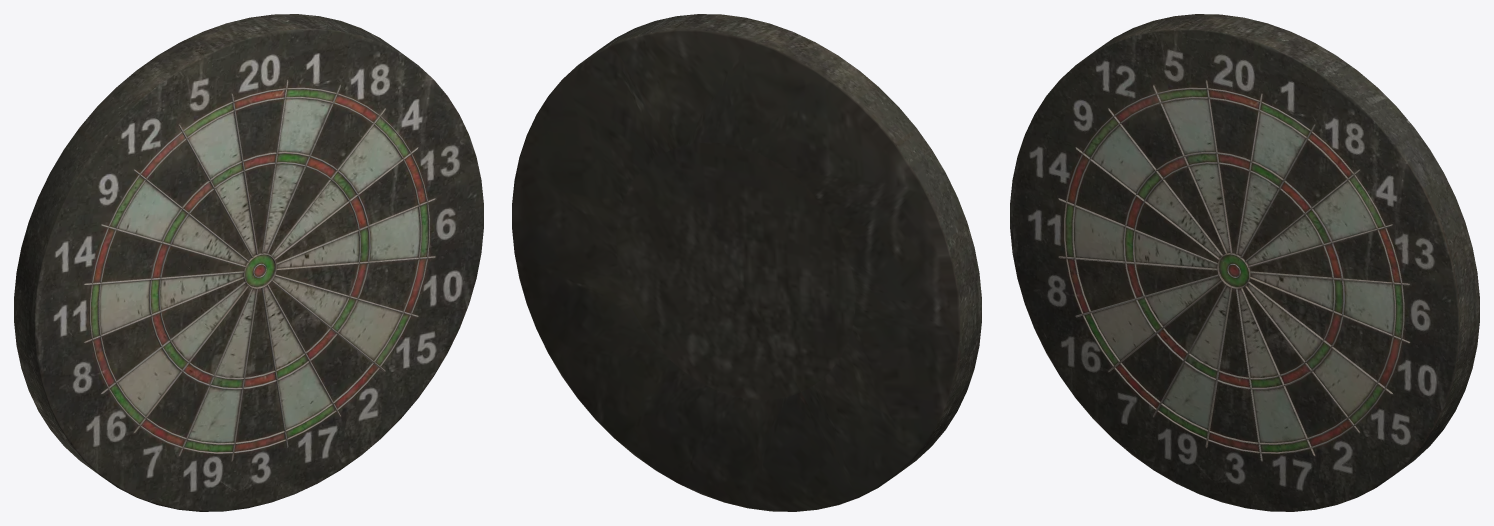
The model's file is dartboard.glb.
3 views of the same model, side by side, from view 1: azimuth 30°, elevation 25°; view 2: azimuth 150°, elevation 25°; view 3: azimuth 330°, elevation 25° (orthographic).
Visible parts, largest first — view 1: dartboard; view 2: dartboard; view 3: dartboard.
Boxes of the visible parts, <box> form: dartboard: <box>14,14,483,511</box>; dartboard: <box>512,14,981,511</box>; dartboard: <box>1010,14,1479,511</box>.
Bounding box in the file's own units: 0.4507 × 0.4507 × 0.0398.
Materials: 1 (1 with a texture image).
